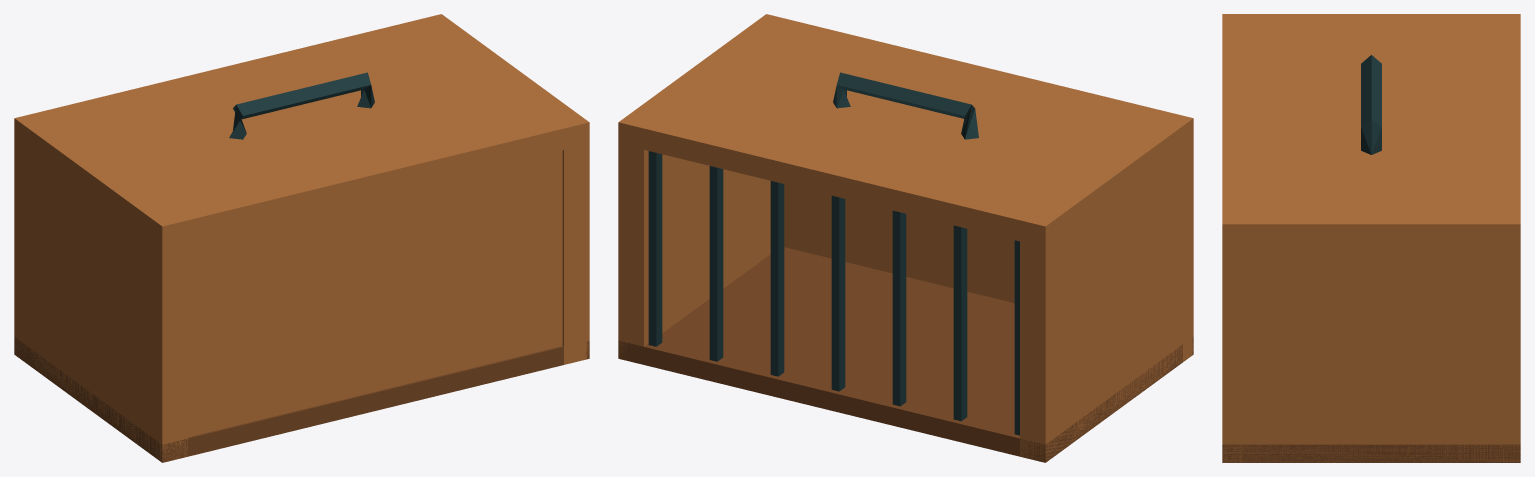
The model's file is transport_crate_M.fbx.
3 views of the same model, side by side, from view 1: azimuth 30°, elevation 25°; view 2: azimuth 150°, elevation 25°; view 3: azimuth 270°, elevation 25° (orthographic).
Visible parts, largest first — view 1: transport_crate_M; view 2: transport_crate_M; view 3: transport_crate_M.
Boxes of the visible parts, bbox=[...] form: transport_crate_M: bbox=[14, 14, 589, 462]; transport_crate_M: bbox=[618, 14, 1193, 462]; transport_crate_M: bbox=[1222, 14, 1520, 462].
Bounding box in the file's own units: 1.5 × 0.9 × 0.9.
